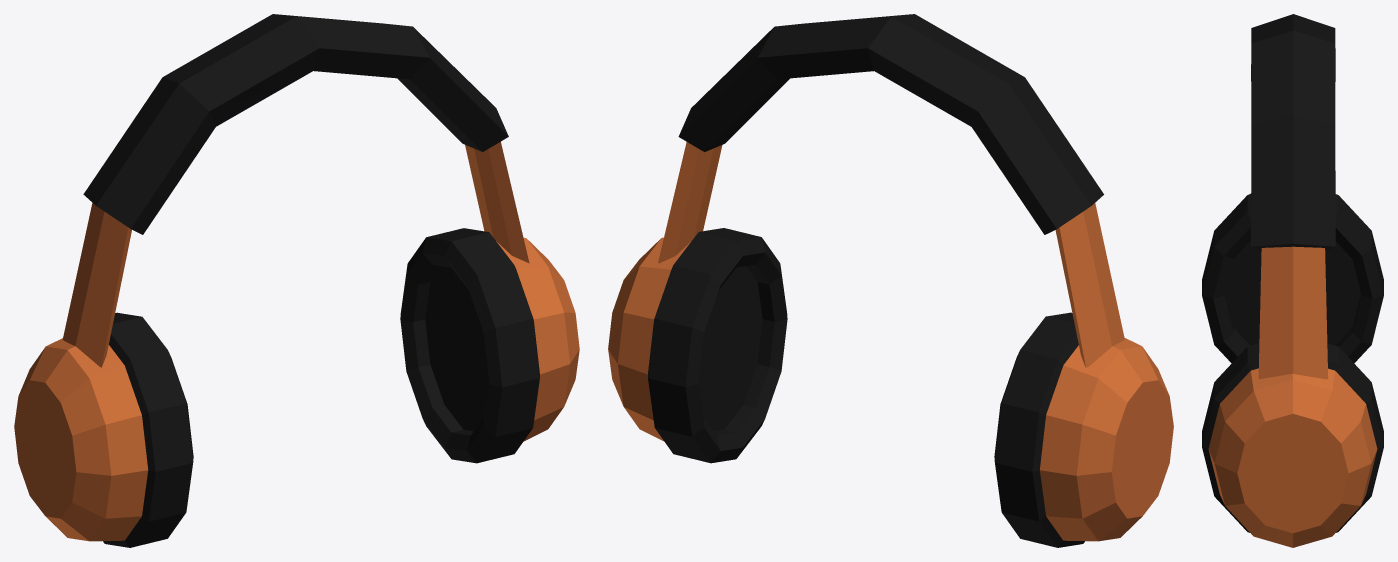
Rendered from Headphones.fbx.
3 renders of one model, left to right at view 1: azimuth 30°, elevation 25°; view 2: azimuth 150°, elevation 25°; view 3: azimuth 270°, elevation 25°, orthographic. The views are drawn at different scales.
Visible parts, largest first — view 1: Headphones; view 2: Headphones; view 3: Headphones.
Boxes of the visible parts, x1,y1,x2,y2 form: Headphones: [14, 14, 579, 547]; Headphones: [608, 14, 1173, 547]; Headphones: [1202, 14, 1383, 547].
Bounding box in the file's own units: 26.62 × 24.28 × 9.3.
